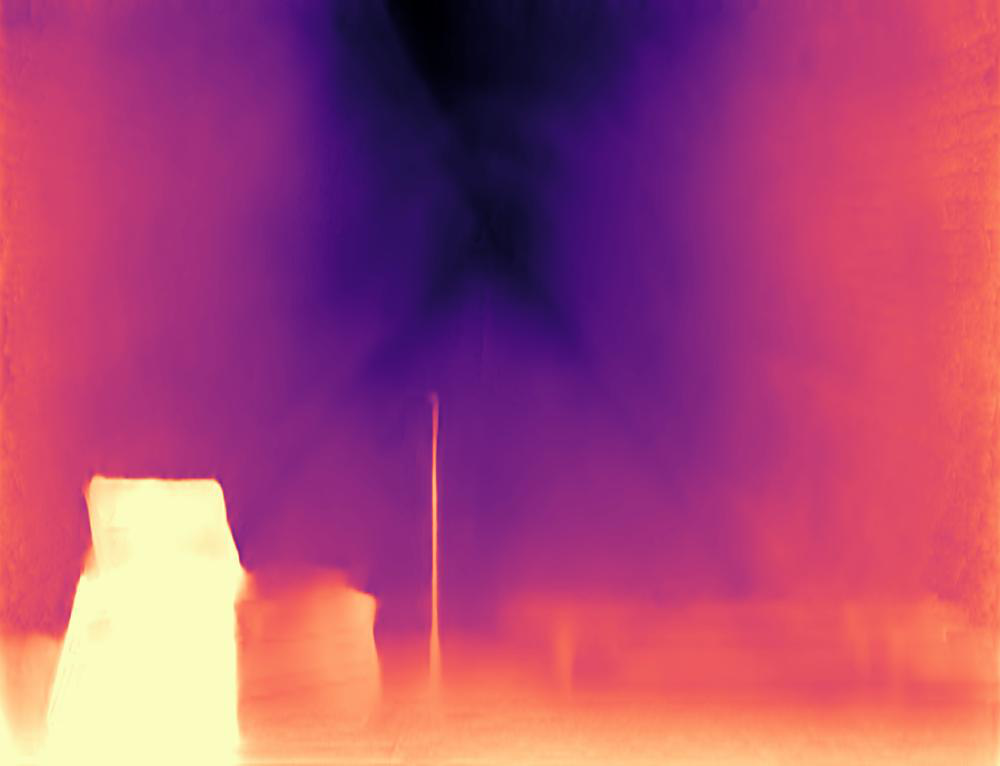painting: (1, 1, 1000, 639)
